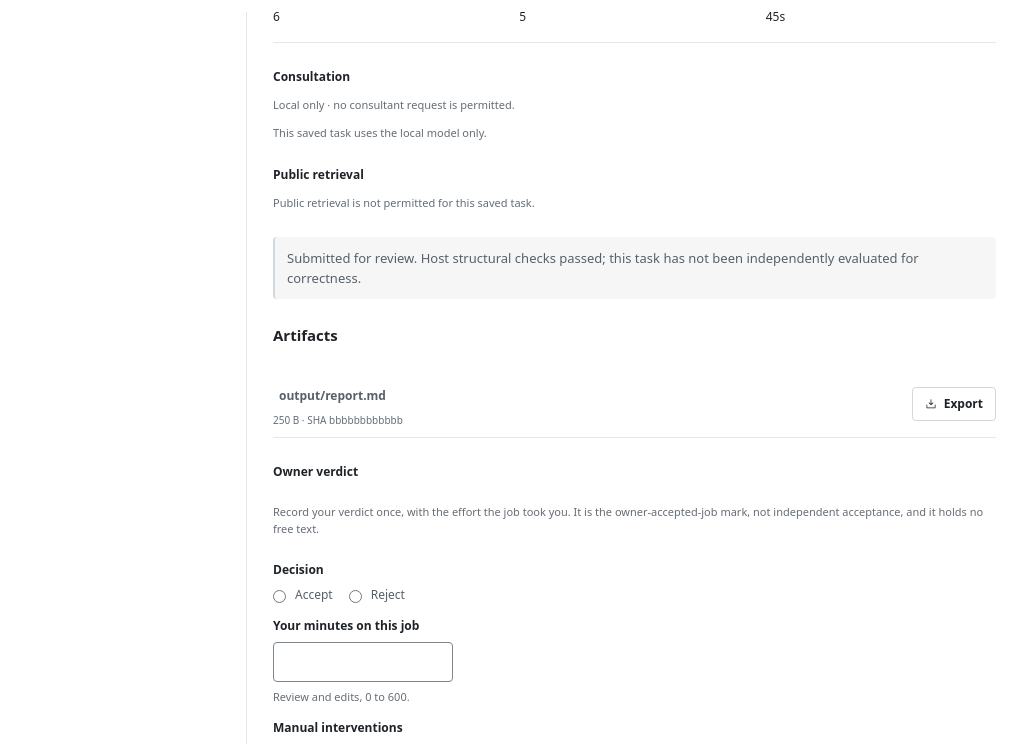
general task workspace › rejects a mismatched preview identity and labels truncation
The width and height of the screenshot is (1024, 744).
(page scrolled)
Click the button with aria-label "Preview output/report.md" at (332, 396), box left=273, top=379, right=392, bottom=413
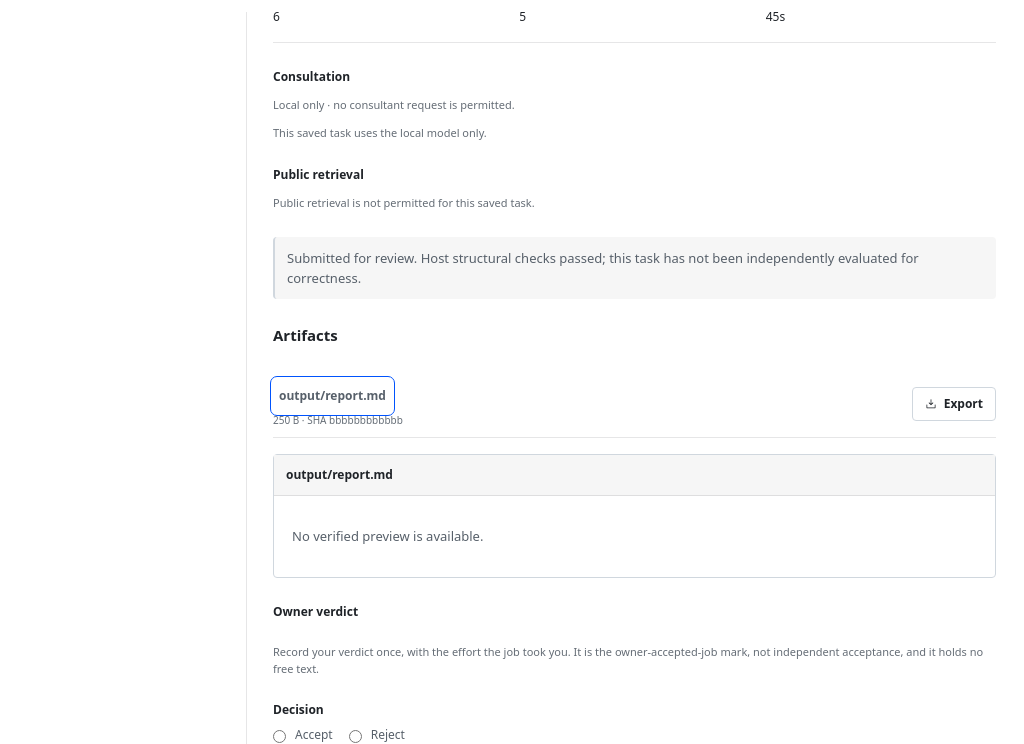
Click the button with aria-label "Preview output/report.md" at (332, 396), box left=273, top=379, right=392, bottom=413
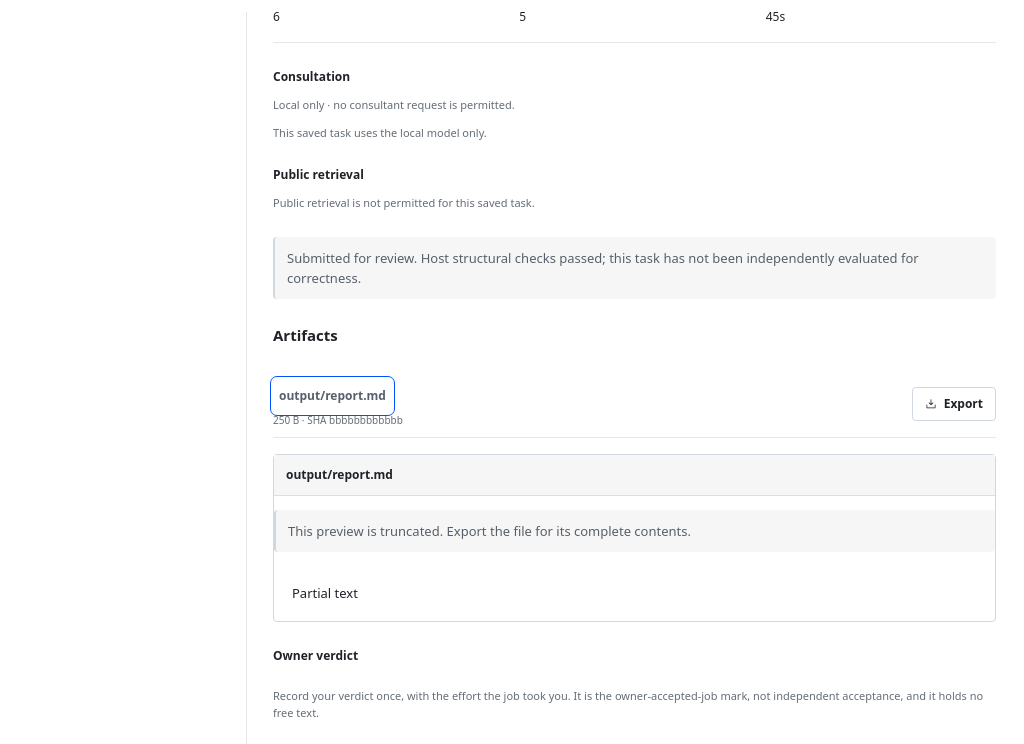
expect the text "preview is truncated" is shown: met, box left=288, top=522, right=691, bottom=540
